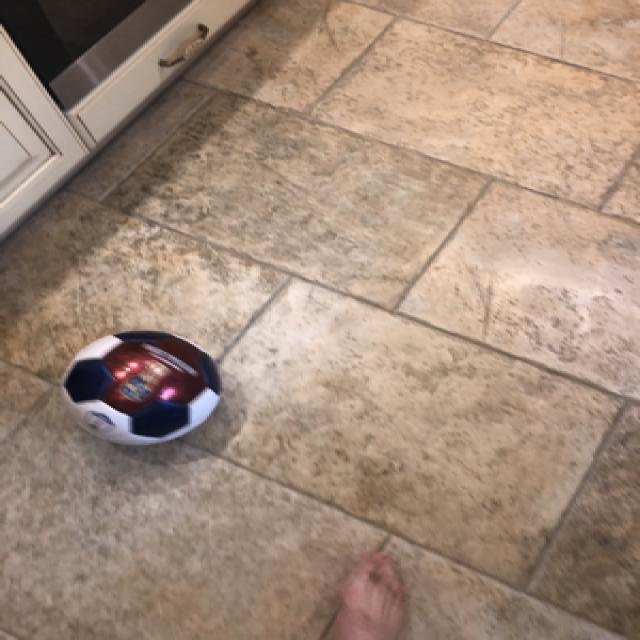soccer_ball: (49, 325, 220, 445)
